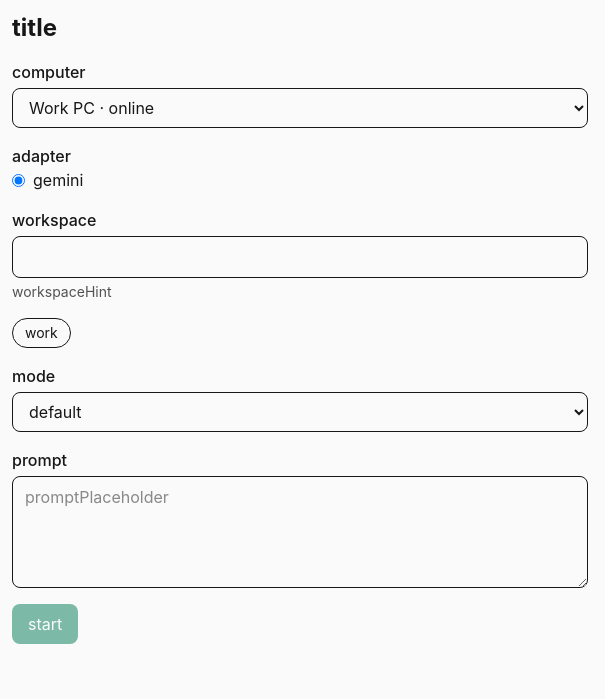
sends the chosen recipe and follows only the session confirmed for its own command
The width and height of the screenshot is (605, 699).
Step 1. Type "work" into the field labelled "workspace workspaceHint" → (300,257), box [12,236,588,278]
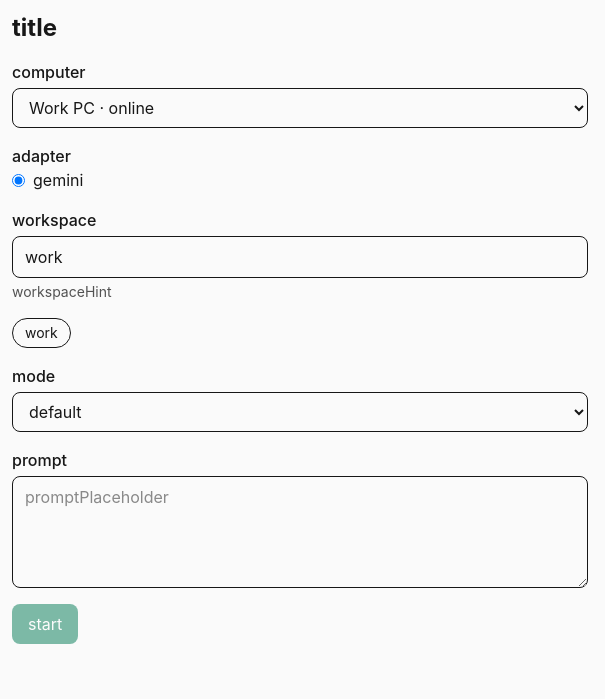
Step 2. Type "fix it" into the text box labelled "prompt" → (300,532), box [12,476,588,588]
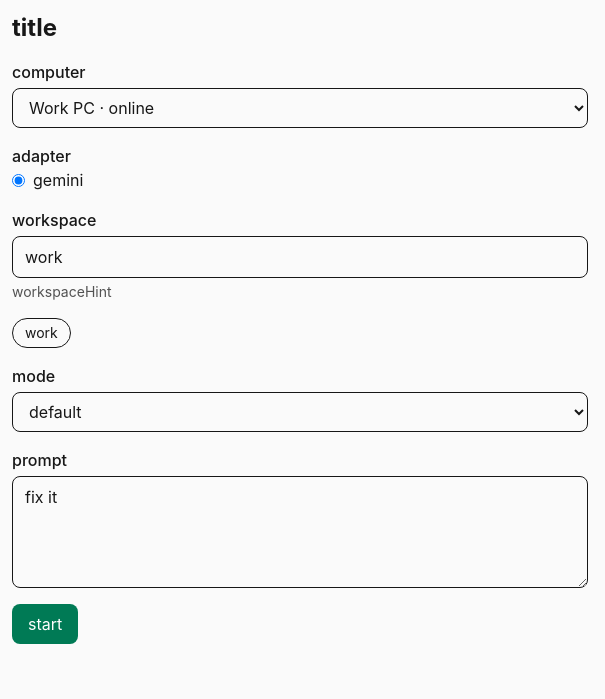
Step 3. Click the button "start" → (45,624), box [12,604,78,644]
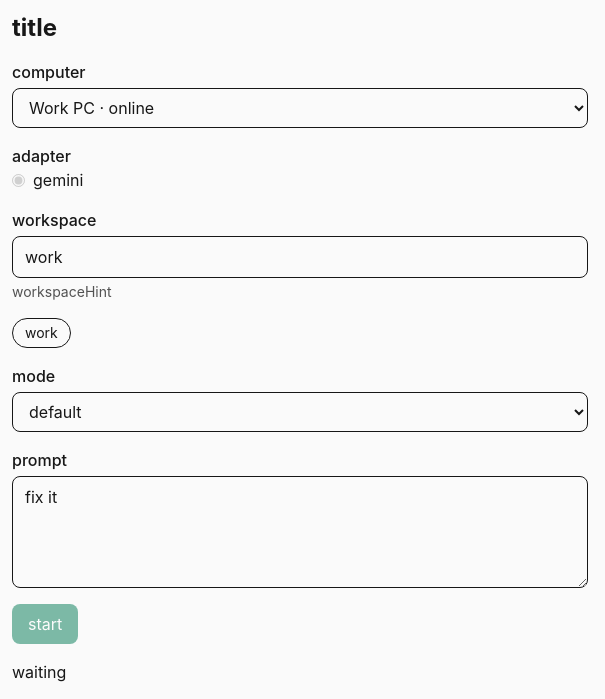
Result: the message "waiting" is shown at [12,662,66,682]
